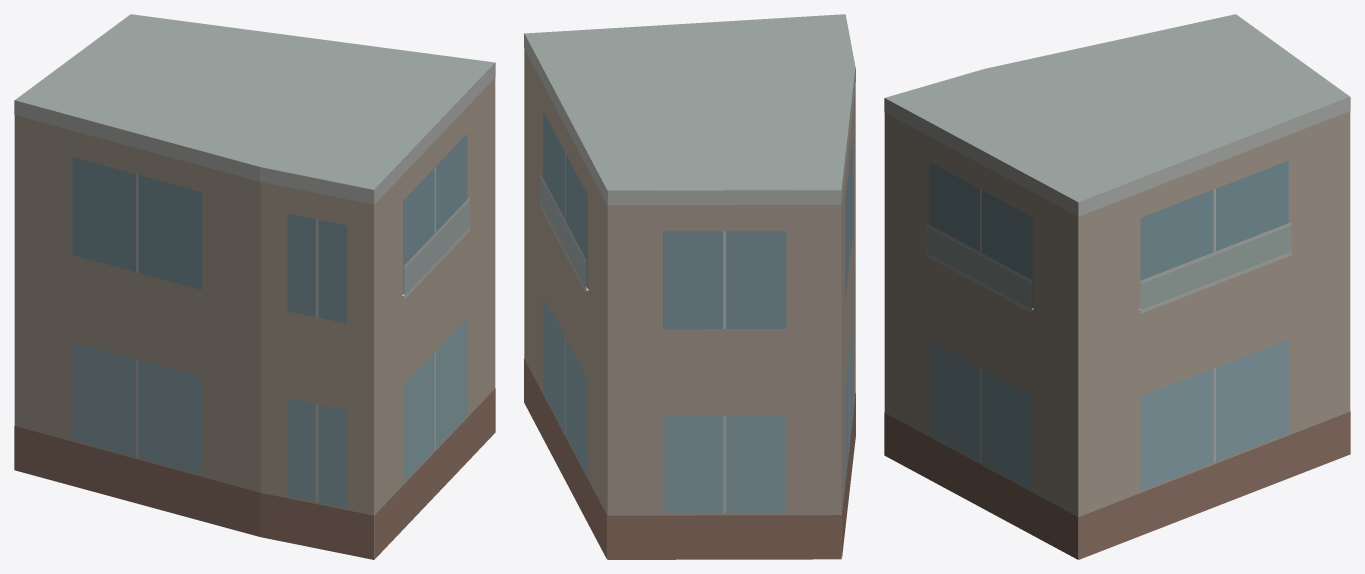
File: survey-upis-33032418.glb
3 views of the same model, side by side, from view 1: azimuth 30°, elevation 25°; view 2: azimuth 150°, elevation 25°; view 3: azimuth 270°, elevation 25° (orthographic). The views are drawn at different scales.
Visible parts, largest first — view 1: survey-upis-33032418.tmp; view 2: survey-upis-33032418.tmp; view 3: survey-upis-33032418.tmp.
Boxes of the visible parts, x1,y1,x2,y2 form: survey-upis-33032418.tmp: (14, 14, 495, 559); survey-upis-33032418.tmp: (524, 14, 855, 559); survey-upis-33032418.tmp: (884, 14, 1350, 559).
Size of the model in its own units: 6.9 by 6.1 by 7.22.
